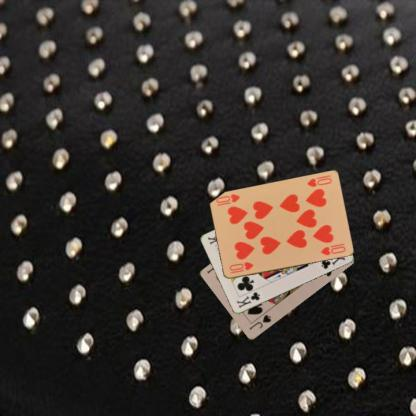10h: (227, 259, 254, 275), (304, 175, 333, 188)
Js: (246, 312, 272, 331)
Kc: (234, 289, 261, 310)
